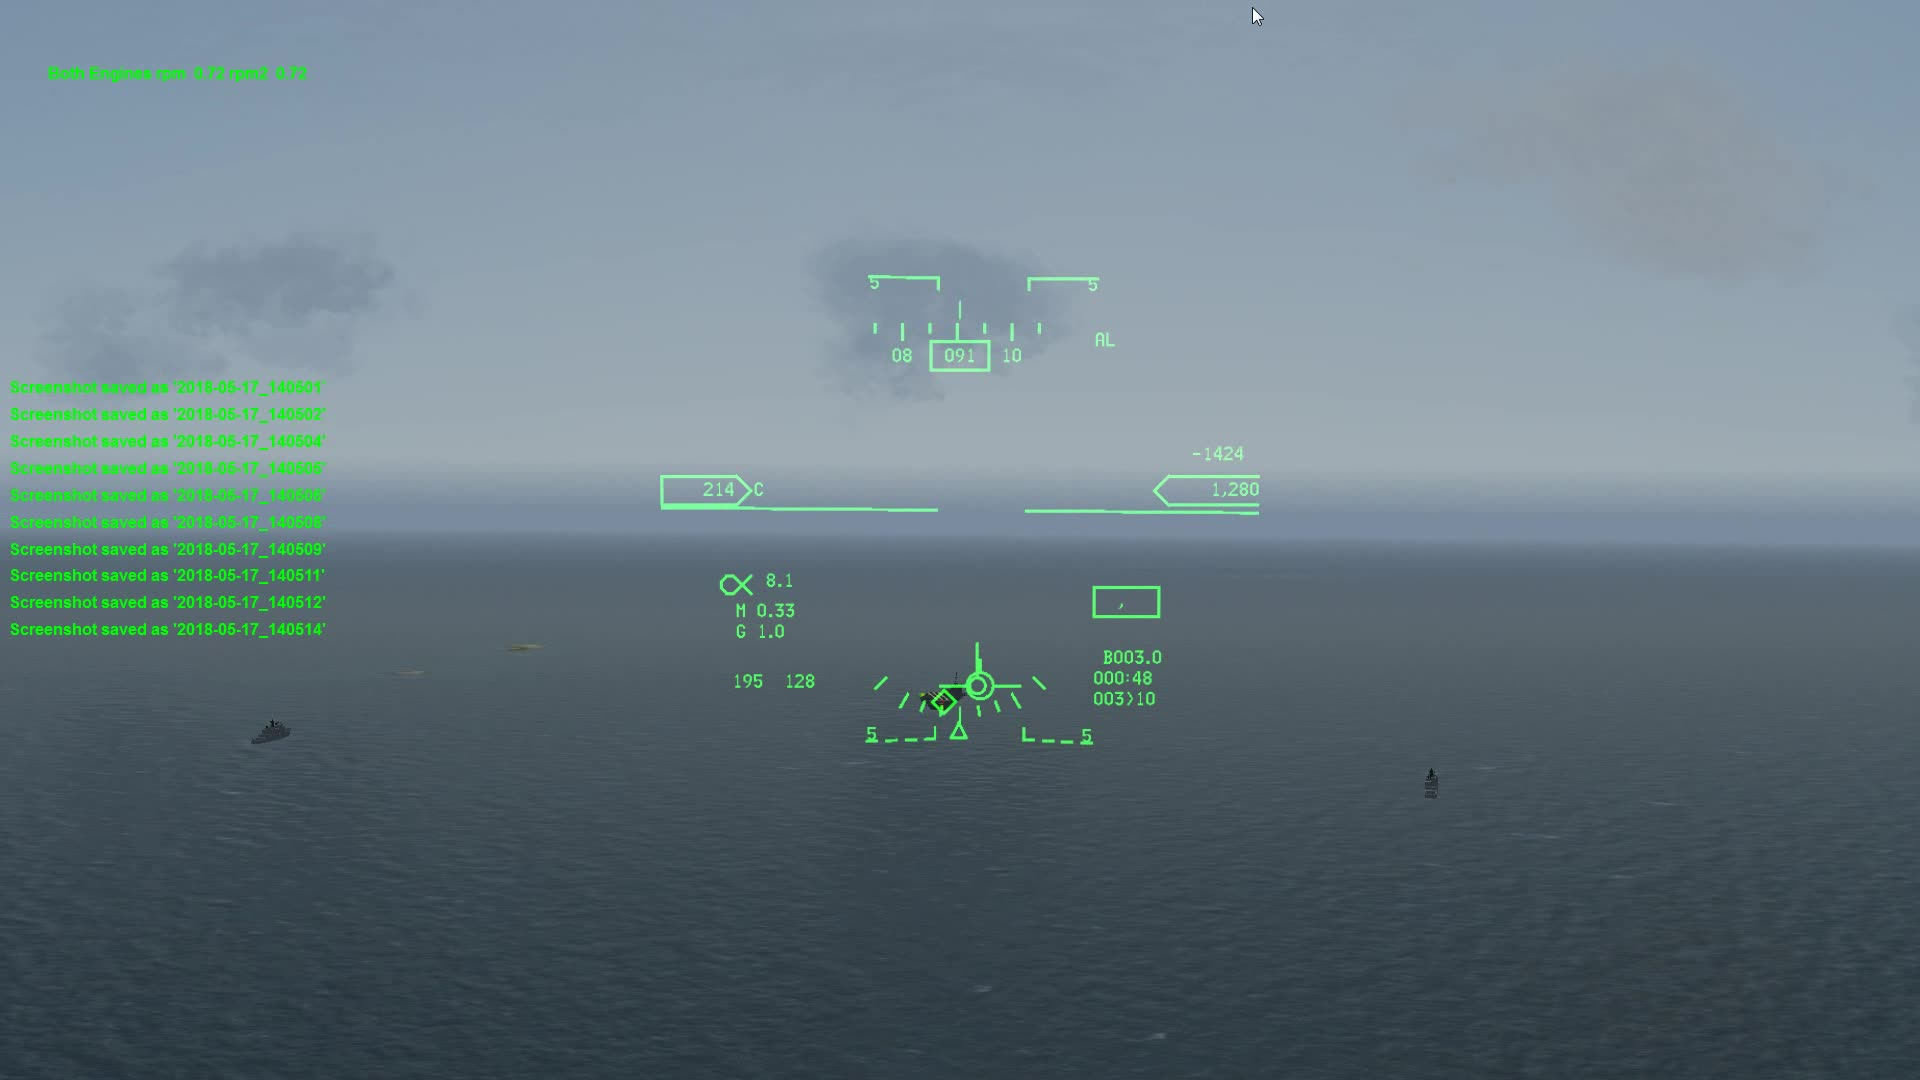speed vector: (942, 645, 1018, 704)
